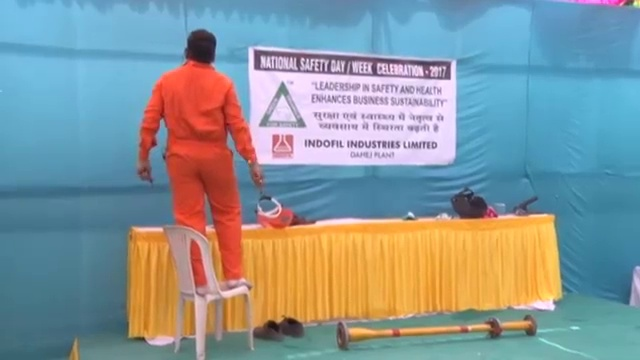helmet_off: (183, 27, 218, 67)
person: (135, 25, 261, 291)
